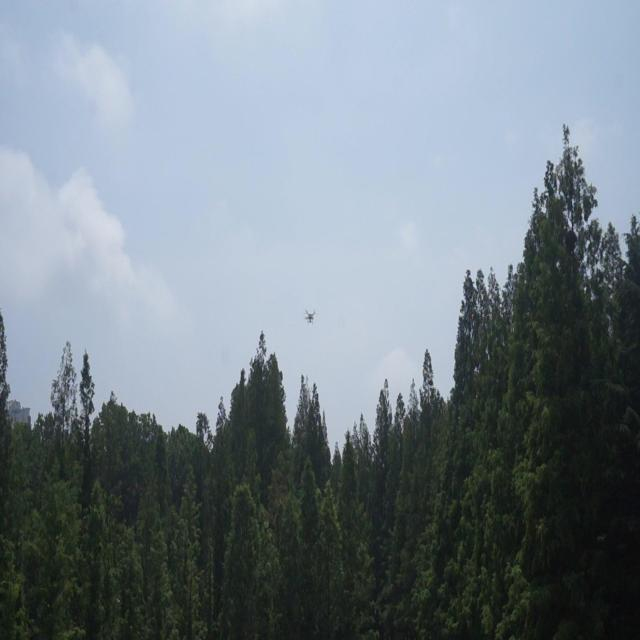drone: (303, 304, 321, 327)
